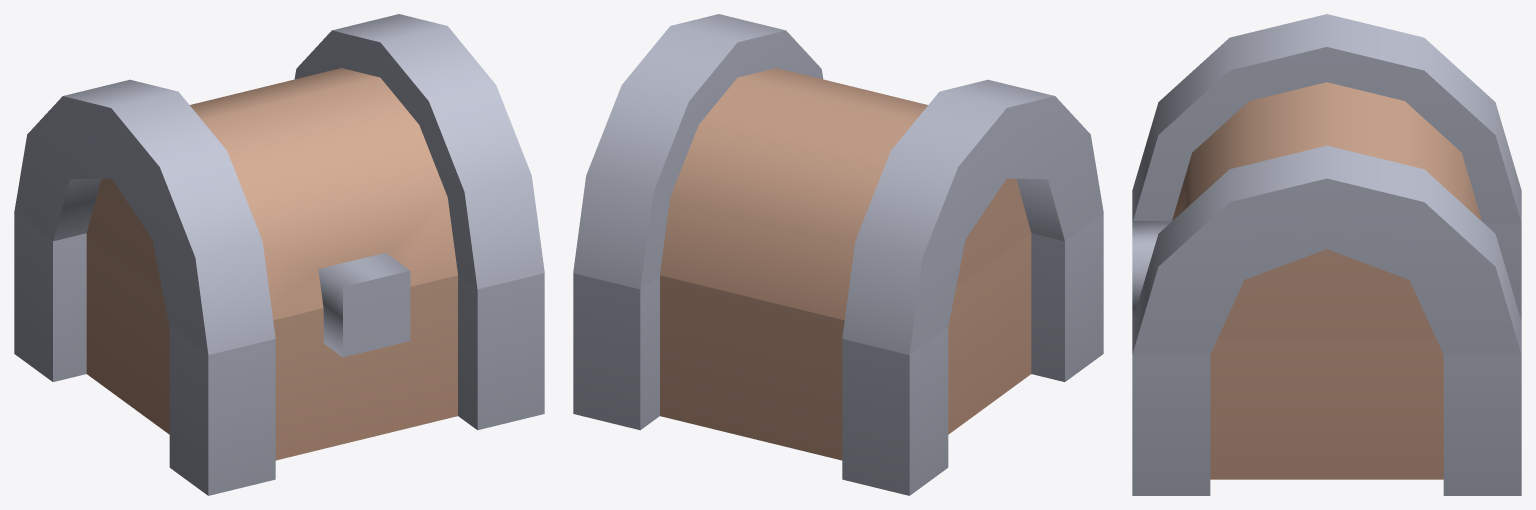
File: chest.glb
3 views of the same model, side by side, from view 1: azimuth 30°, elevation 25°; view 2: azimuth 150°, elevation 25°; view 3: azimuth 270°, elevation 25° (orthographic).
Parts seen in each view (by area): view 1: lid, chest; view 2: lid, chest; view 3: lid, chest.
Boxes of the visible parts, x1,y1,x2,y2 form: lid: (14,14,544,357); chest: (14,213,544,495); lid: (573,14,1103,354); chest: (573,213,1103,495); lid: (1132,14,1521,354); chest: (1132,223,1521,495).
Bounding box in the file's own units: 1.27 × 1.15 × 1.27.
